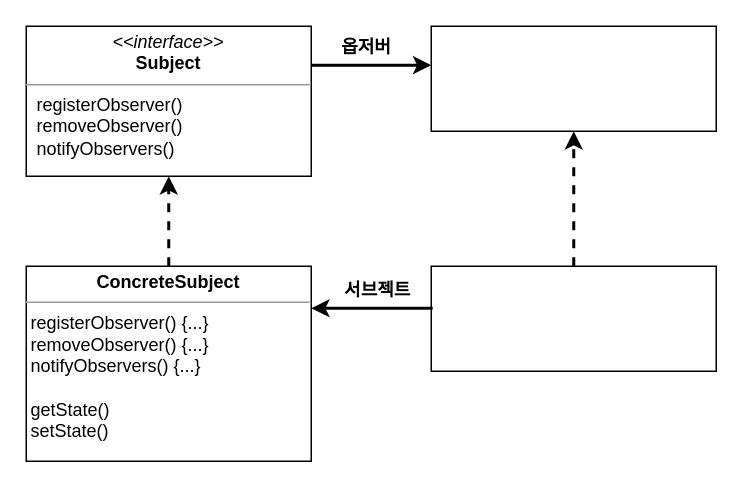
The diagram is 743 pixels wide and 488 high, and some of its shapes have lost their labels. Each missing label, with the centre of its shape:
<<interface>> Observer update(): point 573,78
Observer update() // 기타 메서드: point 573,318
